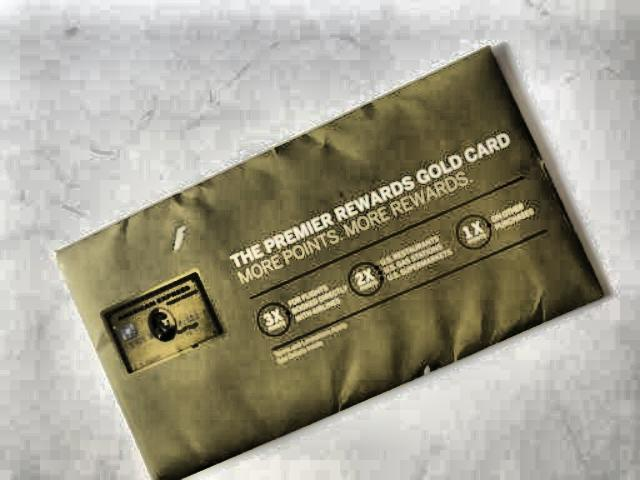Paper: (69, 28, 625, 480)
